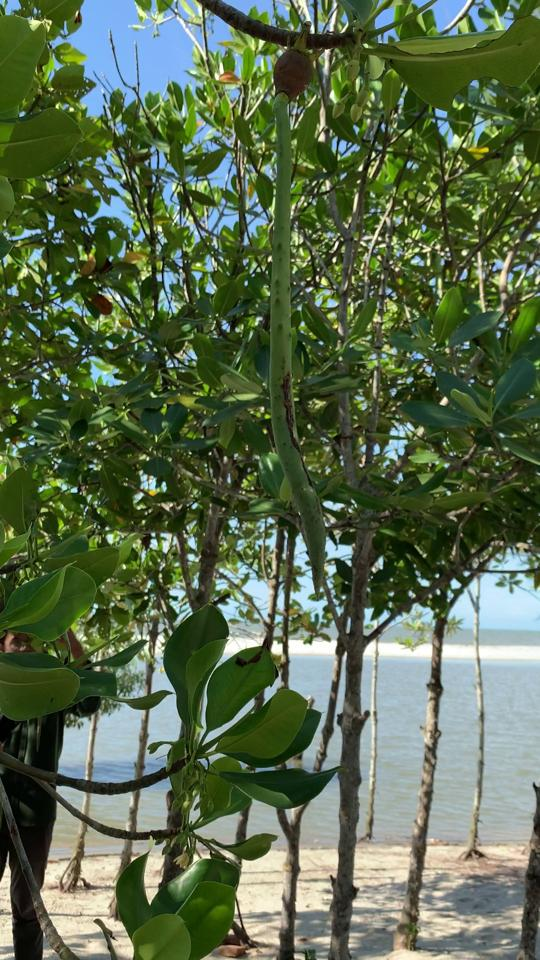setengah matang: (261, 41, 346, 600)
